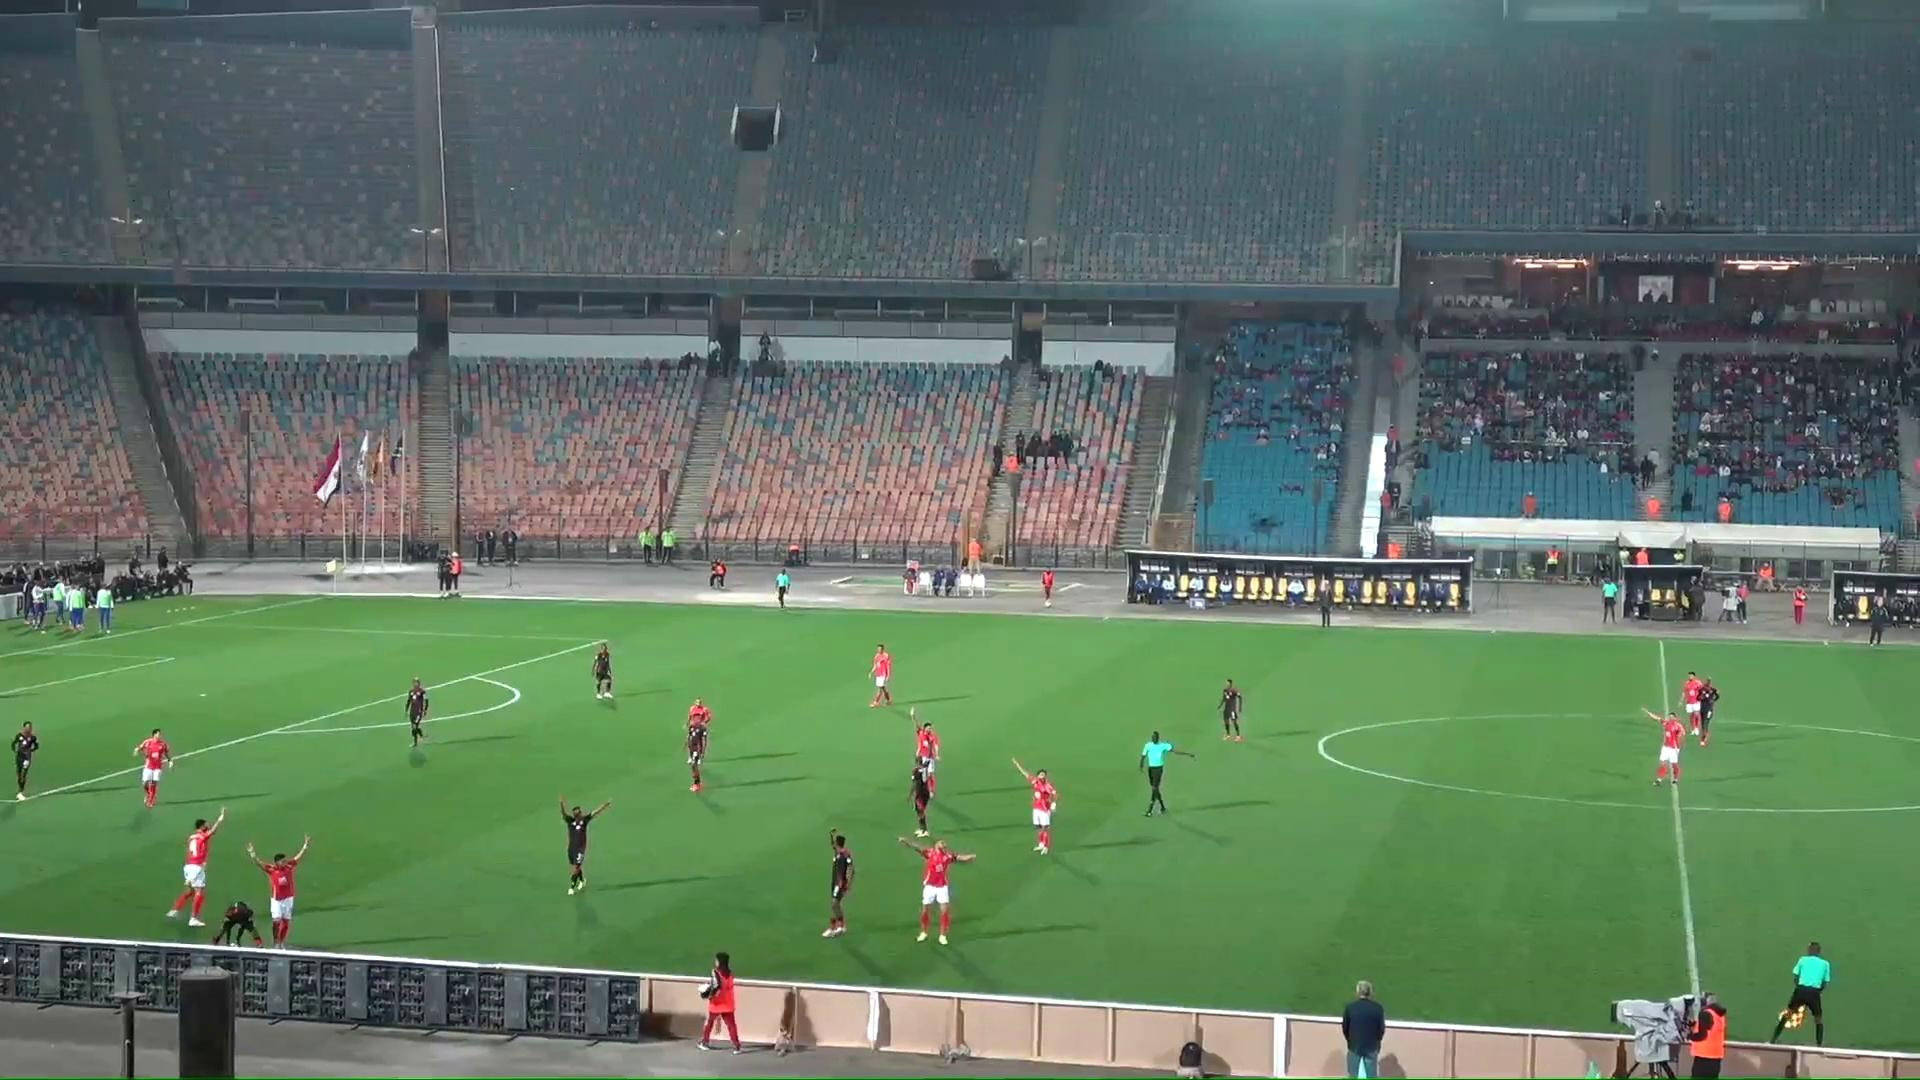Refree: (1774, 942, 1833, 1043), (1139, 731, 1189, 814), (1600, 570, 1623, 622), (774, 566, 794, 607)
Team1: (899, 836, 975, 944), (166, 810, 225, 928), (248, 840, 310, 947), (1013, 760, 1058, 855), (1644, 709, 1689, 785), (135, 729, 173, 807), (684, 698, 715, 767), (865, 644, 895, 705), (911, 717, 942, 777)
Team2: (559, 798, 611, 893), (819, 828, 855, 938), (1681, 671, 1720, 745), (12, 720, 41, 800), (212, 901, 262, 945), (907, 764, 938, 837), (1217, 679, 1244, 740), (406, 676, 430, 744), (589, 641, 613, 699), (687, 753, 705, 793)
